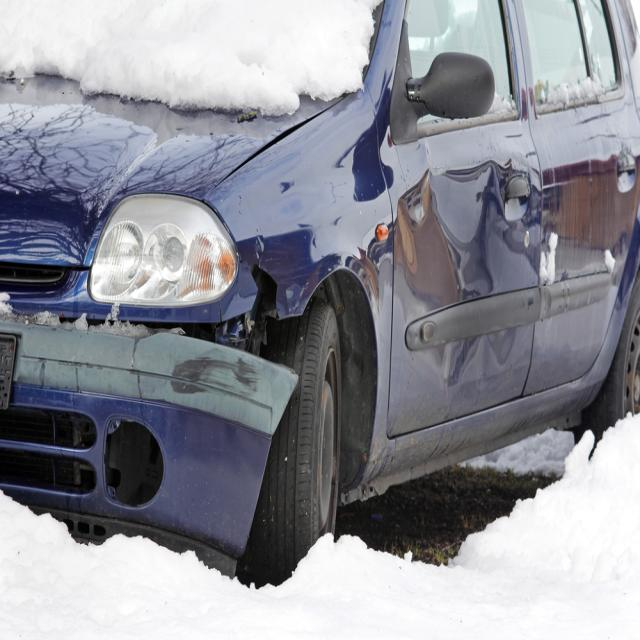Cabossage: (390, 148, 532, 379)
Dechirure: (242, 247, 289, 327)
